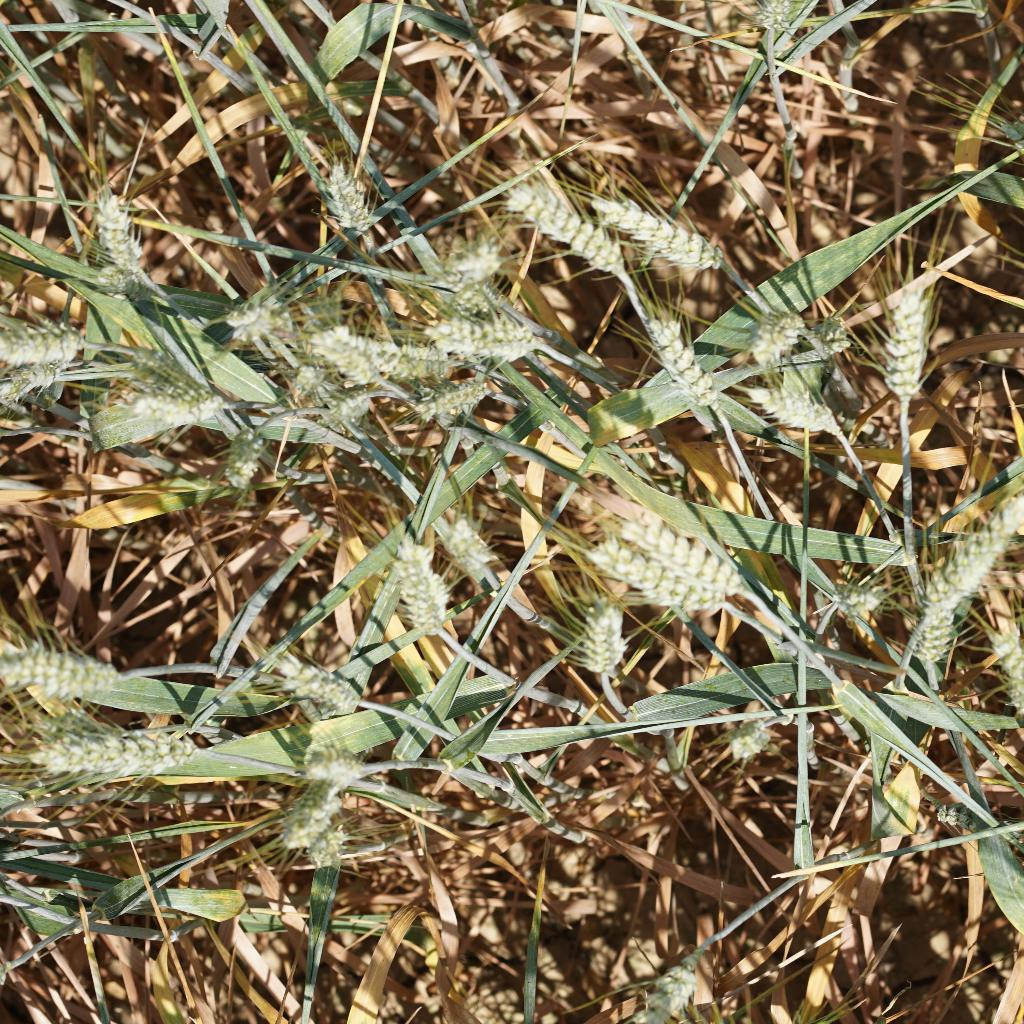0-0: (493, 165, 658, 302), (609, 501, 770, 604), (585, 183, 727, 292), (586, 531, 729, 636), (929, 470, 1024, 621), (25, 717, 204, 781), (636, 309, 728, 422), (419, 301, 555, 372), (746, 367, 859, 451), (381, 533, 459, 654), (866, 286, 938, 408), (388, 357, 507, 430), (0, 642, 137, 705), (101, 361, 224, 429), (86, 181, 151, 305), (243, 650, 362, 717), (587, 955, 697, 1024), (309, 152, 389, 243), (433, 499, 515, 580), (332, 314, 441, 374), (305, 313, 387, 391), (266, 777, 358, 840), (570, 595, 631, 683), (432, 224, 508, 294), (0, 312, 94, 367), (905, 582, 965, 668), (286, 732, 373, 791), (746, 299, 811, 376), (983, 604, 1024, 723), (821, 559, 889, 626), (216, 419, 272, 497), (74, 260, 160, 304), (222, 291, 283, 349), (0, 363, 73, 407), (714, 716, 770, 771), (811, 306, 858, 366), (318, 385, 380, 430), (305, 821, 351, 876), (739, 0, 804, 38), (280, 358, 328, 397)
